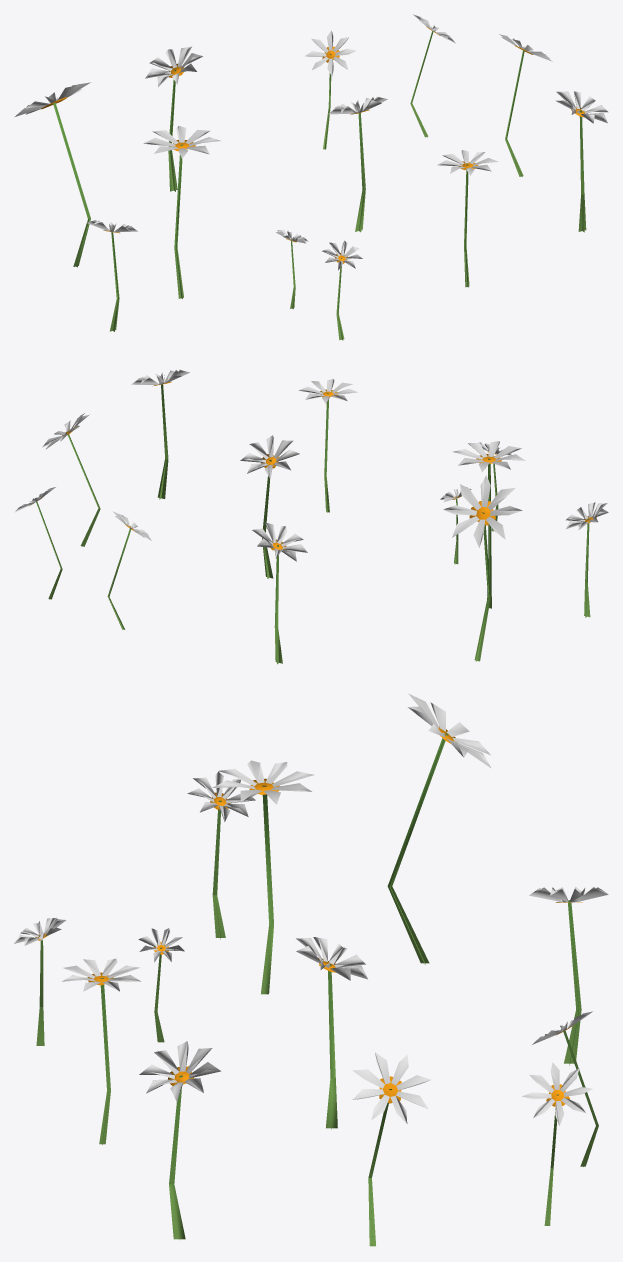
Rendered from flower_daisy_low.glb.
The picture shows the model from 3 angles, top to bottom: view 1: azimuth 30°, elevation 25°; view 2: azimuth 150°, elevation 25°; view 3: azimuth 270°, elevation 25°; orthographic projection. The views are drawn at different scales.
Visible parts, largest first — view 1: Flower 4_4_A; view 2: Flower 4_4_A; view 3: Flower 4_4_A.
Part boxes in pixels (x1,y1,x2,y2): Flower 4_4_A: (15,14,608,340); Flower 4_4_A: (14,369,608,664); Flower 4_4_A: (14,693,608,1246).
Bounding box in the file's own units: 0.7351 × 0.2547 × 0.5391.
1 material, 1 textured.
